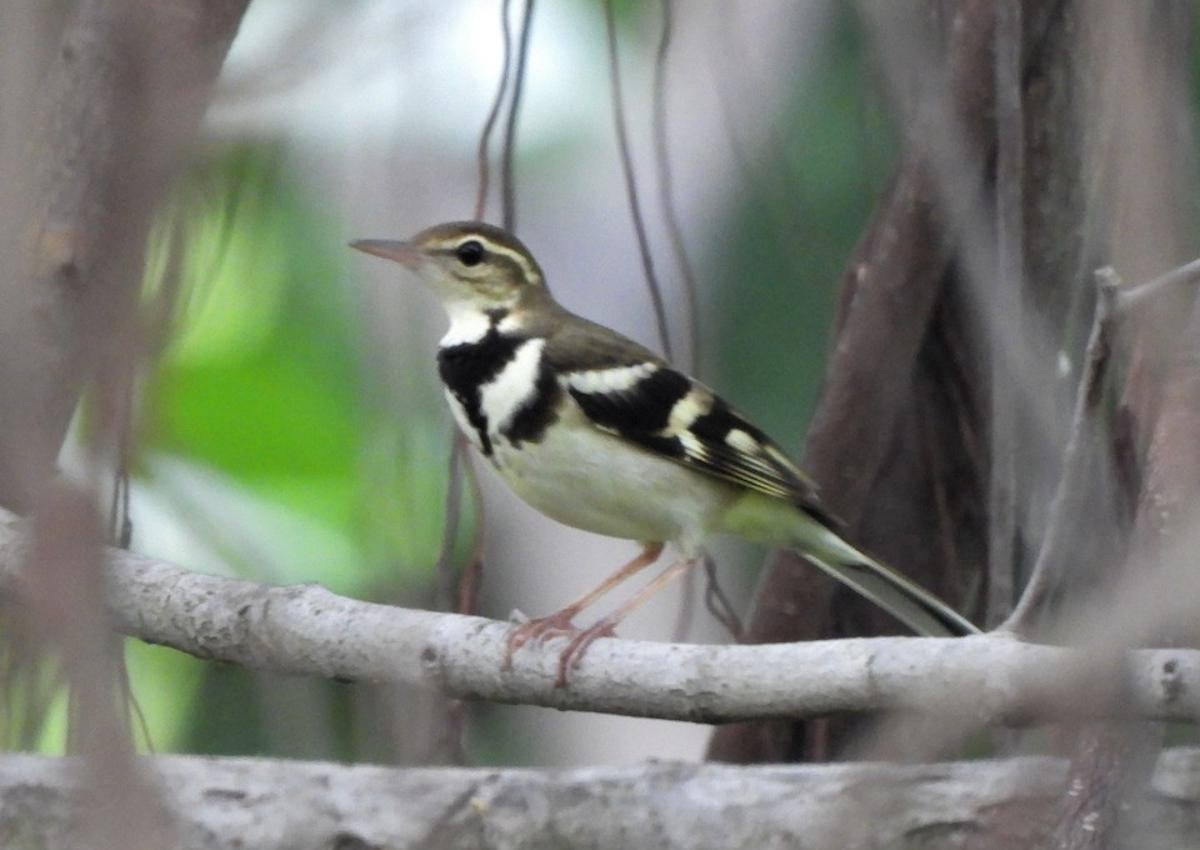wagtail: (345, 160, 889, 659)
